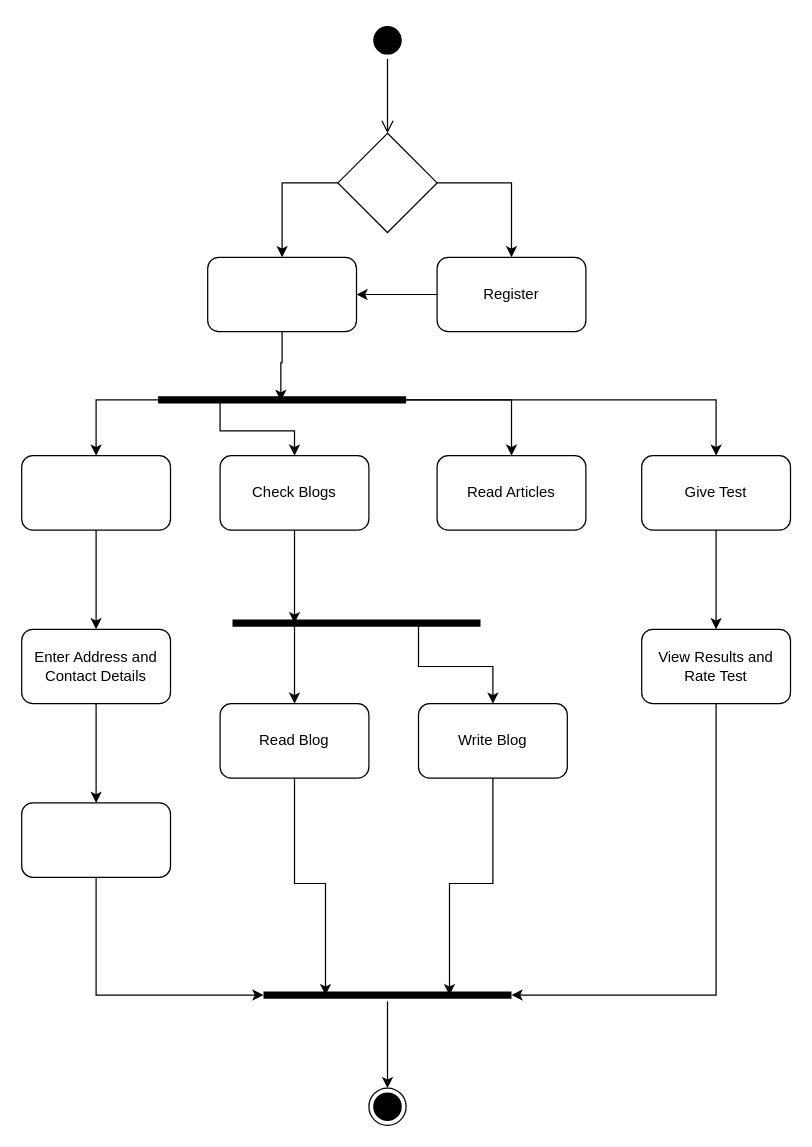
This 812x1147 diagram has some shape labels left out. The shapes that lost their labels are listed below. From the top down, each one's centre as x and y in pixels, then its label:
At point 387,182: "Registered?".
At point 281,294: "Log In".
At point 95,492: "Find Professionals".
At point 95,839: "Rate your experience".
